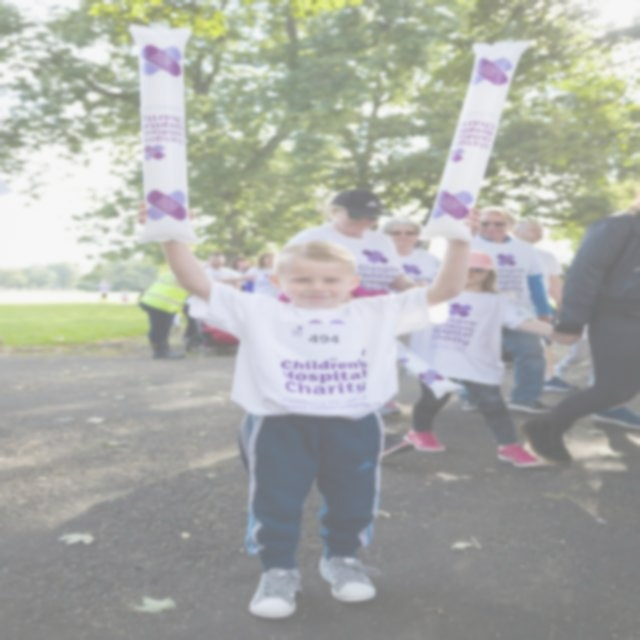pessoa: (130, 194, 490, 623), (404, 248, 583, 467), (515, 192, 638, 466), (468, 203, 558, 416), (280, 187, 432, 300), (508, 219, 584, 395), (137, 270, 195, 360), (541, 300, 599, 388), (378, 216, 443, 288), (164, 302, 244, 357), (240, 252, 283, 300), (203, 251, 243, 291), (230, 256, 252, 292), (95, 276, 115, 306), (136, 288, 148, 306), (119, 286, 130, 298), (198, 262, 214, 270)
